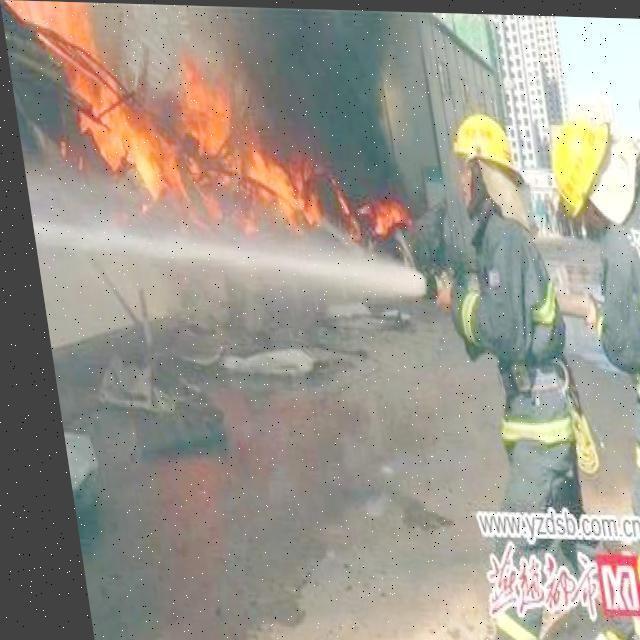Fire: (0, 0, 409, 242)
